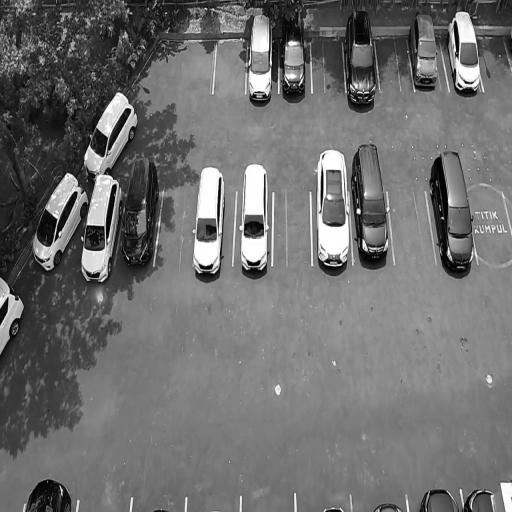Car: (23, 172, 90, 282), (77, 87, 149, 184), (426, 141, 477, 275), (115, 156, 166, 273), (77, 176, 127, 287), (315, 140, 353, 280), (190, 165, 234, 282), (353, 141, 390, 265), (236, 159, 271, 284), (22, 475, 77, 512), (419, 487, 460, 512), (463, 484, 494, 512), (372, 494, 404, 512)
Space Available: (389, 188, 433, 264), (155, 190, 196, 266), (469, 193, 512, 265), (275, 184, 311, 269), (375, 33, 413, 91), (477, 38, 512, 93), (213, 42, 247, 95), (312, 37, 344, 93), (78, 492, 133, 512)
